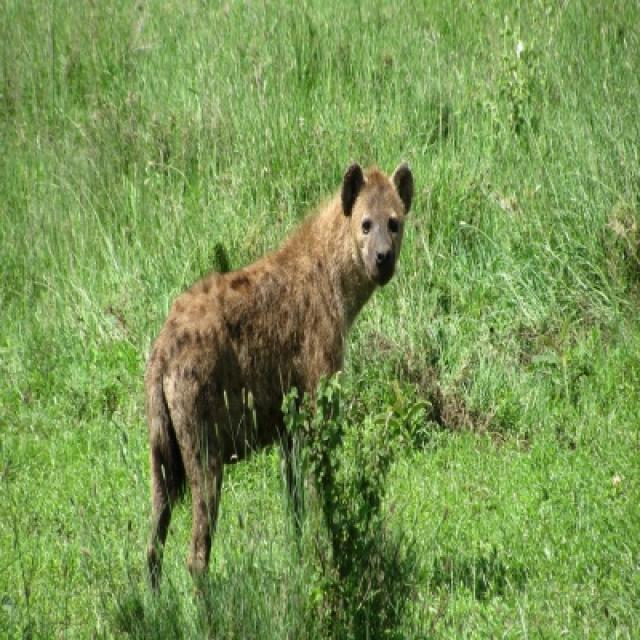hyena: (144, 163, 416, 594)
